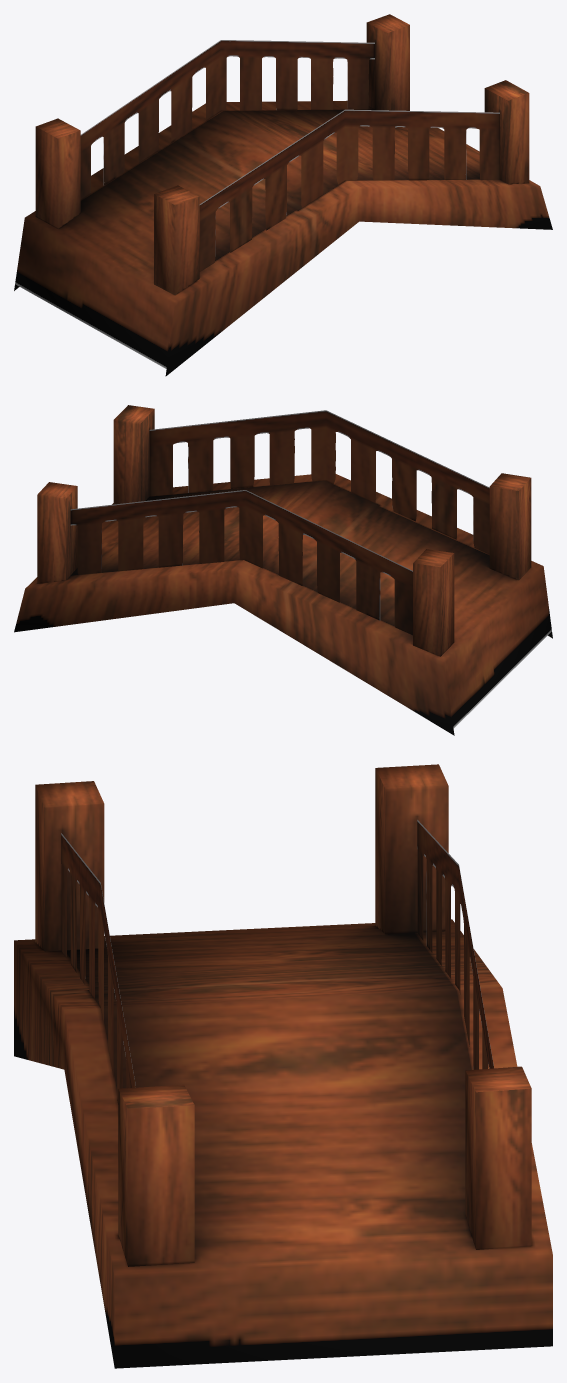
The model's file is bridge.DAE.
The picture shows the model from 3 angles, top to bottom: view 1: azimuth 30°, elevation 25°; view 2: azimuth 150°, elevation 25°; view 3: azimuth 270°, elevation 25°; orthographic projection. The views are drawn at different scales.
Parts seen in each view (by area): view 1: bridge_PIVOT; view 2: bridge_PIVOT; view 3: bridge_PIVOT.
Part boxes in pixels (x1=…): bridge_PIVOT: x1=14, y1=14, x2=552, y2=376; bridge_PIVOT: x1=14, y1=405, x2=552, y2=735; bridge_PIVOT: x1=14, y1=764, x2=552, y2=1368.
Size of the model in its own units: 313 by 189 by 137.
